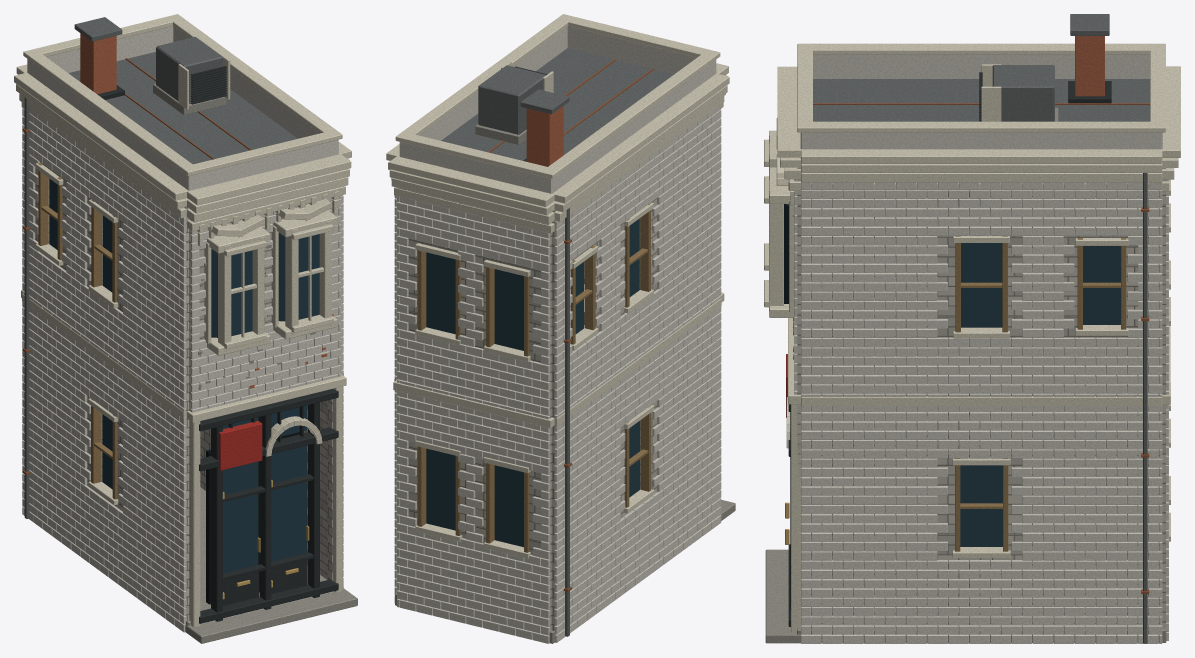
File: BUSS6_lod0.glb
The picture shows the model from 3 angles, left to right: view 1: azimuth 30°, elevation 25°; view 2: azimuth 150°, elevation 25°; view 3: azimuth 270°, elevation 25°; orthographic projection. The views are drawn at different scales.
Parts seen in each view (by area): view 1: BUSS6_LOD0; view 2: BUSS6_LOD0; view 3: BUSS6_LOD0.
Part boxes in pixels (x1,y1,x2,y2): BUSS6_LOD0: (14, 14, 357, 643); BUSS6_LOD0: (386, 14, 735, 643); BUSS6_LOD0: (764, 14, 1180, 643).
Size of the model in its own units: 3.78 by 10.25 by 6.92.
15 materials, 12 textured.
